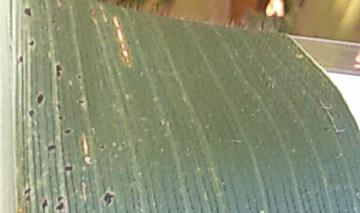tarspot: (99, 187, 115, 206), (54, 61, 64, 81), (22, 5, 34, 20), (44, 141, 58, 153), (34, 91, 46, 105), (39, 196, 50, 210), (13, 53, 27, 64), (60, 126, 75, 135), (26, 108, 38, 119), (22, 185, 35, 195), (54, 202, 68, 211), (75, 98, 87, 108), (26, 38, 38, 48), (63, 164, 76, 173), (75, 72, 85, 82), (56, 113, 67, 122), (55, 193, 65, 202), (97, 142, 107, 151), (55, 102, 63, 113), (22, 195, 34, 201), (49, 18, 56, 25)
